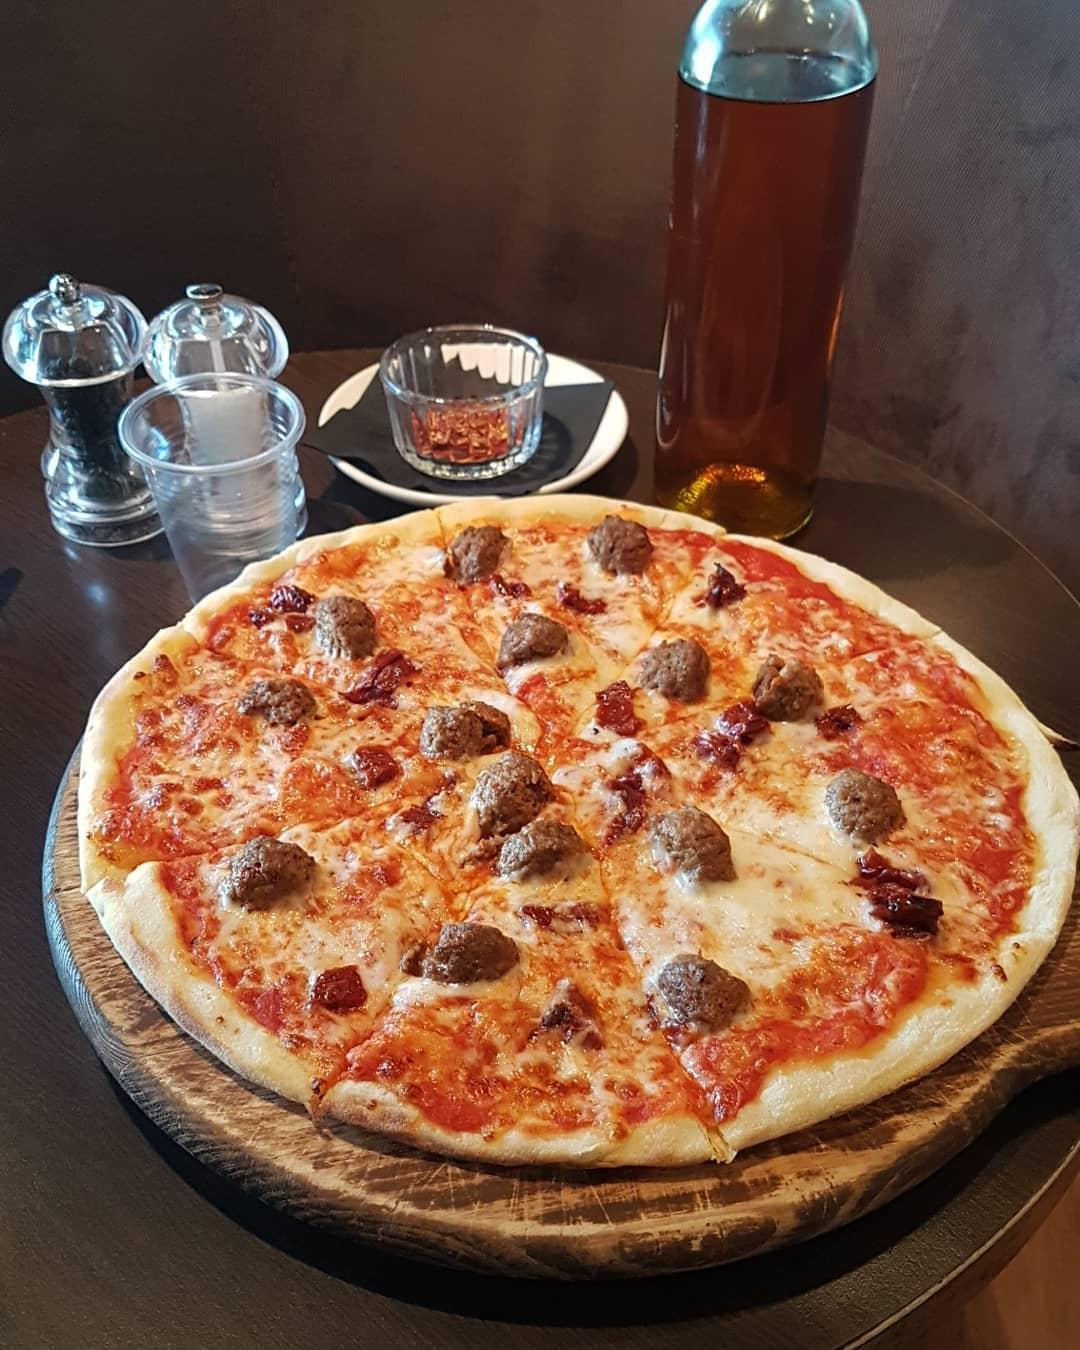Pizza: (86, 494, 1080, 1168)
